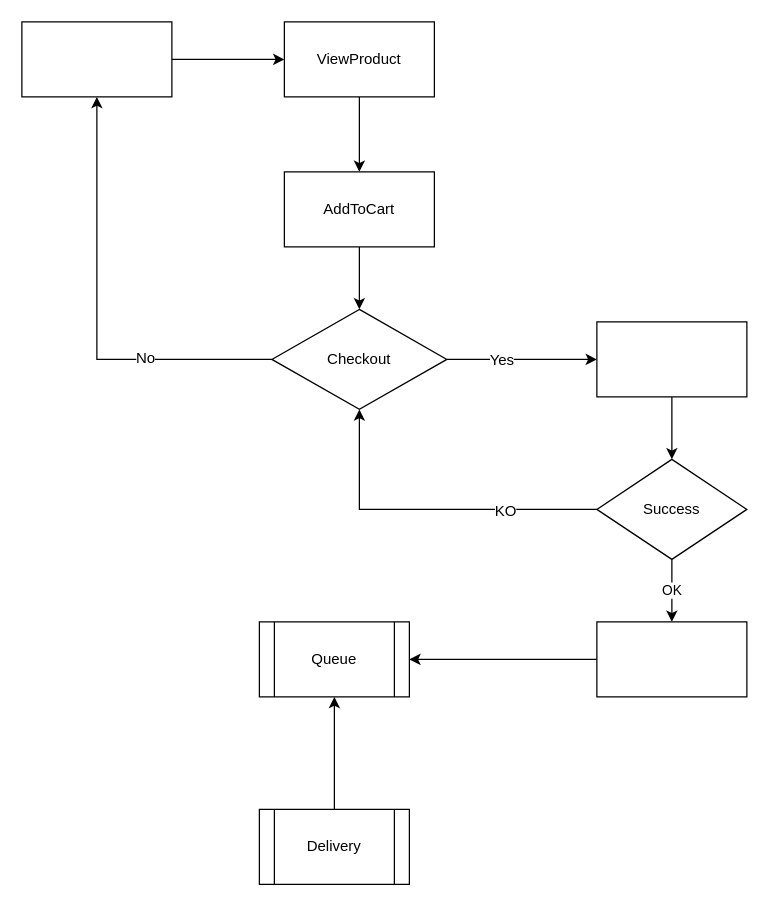
Some shapes in this 769 by 906 pixel diagram are drawn without their labels. Each missing label, with the centre of its shape:
"ListProducts" belongs at pixel 96 59.
"Order" belongs at pixel 671 659.
"Pay" belongs at pixel 671 359.
